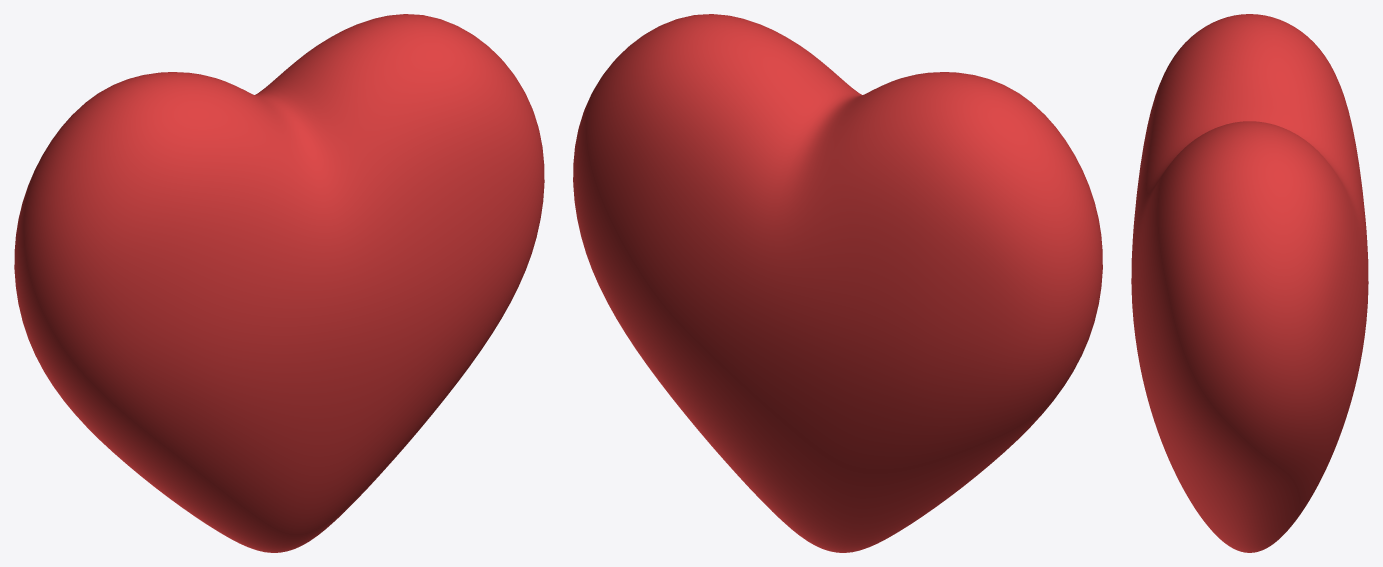
The model's file is HeartShape.gltf.
The picture shows the model from 3 angles, left to right: view 1: azimuth 30°, elevation 25°; view 2: azimuth 150°, elevation 25°; view 3: azimuth 270°, elevation 25°; orthographic projection. The views are drawn at different scales.
Parts seen in each view (by area): view 1: 12190_Heart_v1_L3; view 2: 12190_Heart_v1_L3; view 3: 12190_Heart_v1_L3.
Boxes of the visible parts, x1=… form: 12190_Heart_v1_L3: x1=14, y1=14, x2=544, y2=552; 12190_Heart_v1_L3: x1=573, y1=14, x2=1102, y2=552; 12190_Heart_v1_L3: x1=1131, y1=14, x2=1368, y2=552.
Size of the model in its own units: 21.25 by 19.91 by 9.14.
